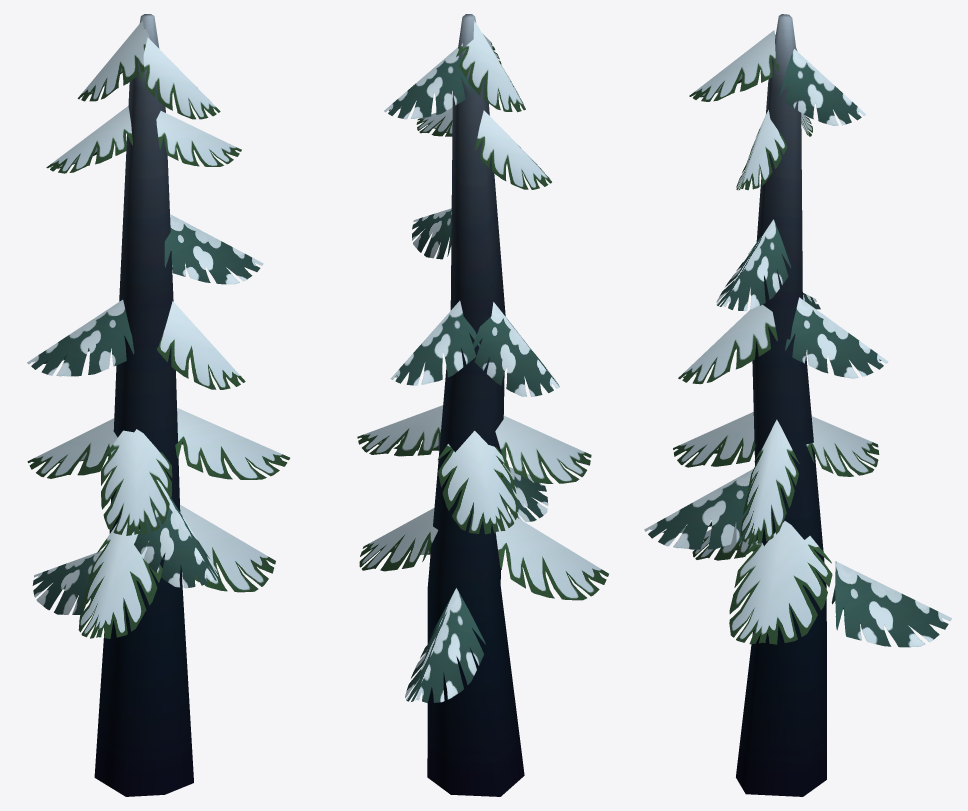
Rendered from tree-02b.glb.
3 renders of one model, left to right at view 1: azimuth 30°, elevation 25°; view 2: azimuth 150°, elevation 25°; view 3: azimuth 270°, elevation 25°, orthographic.
Parts seen in each view (by area): view 1: Tree 02B, Leaf 01 (15), Leaf 01 (8), Leaf 01 (1), Leaf 03 (2), Leaf 03, Leaf 03 (3), Leaf 01 (7), Leaf 01 (9), Leaf 01 (5), Leaf 01 (16), Leaf 01 (12) (+3 smaller); view 2: Tree 02B, Leaf 01 (16), Leaf 01 (8), Leaf 03 (4), Leaf 03 (2), Leaf 01 (15), Leaf 03 (1), Leaf 03 (5), Leaf 01 (13), Leaf 01 (7), Leaf 01 (17), Leaf 01 (1) (+3 smaller); view 3: Tree 02B, Leaf 01 (7), Leaf 03 (4), Leaf 03, Leaf 01 (1), Leaf 03 (1), Leaf 01 (9), Leaf 03 (3), Leaf 03 (5), Leaf 01 (15), Leaf 01 (16), Leaf 01 (5) (+2 smaller).
Boxes of the visible parts, x1,y1,x2,y2 form: Tree 02B: (94,14,193,796); Leaf 01 (15): (101,429,172,535); Leaf 01 (8): (78,522,163,638); Leaf 01 (1): (175,408,289,479); Leaf 03 (2): (27,299,134,376); Leaf 03: (132,479,218,588); Leaf 03 (3): (164,214,263,284); Leaf 01 (7): (180,504,275,592); Leaf 01 (9): (157,301,245,389); Leaf 01 (5): (139,37,220,119); Leaf 01 (16): (27,418,117,478); Leaf 01 (12): (156,111,241,166); Tree 02B: (427,14,524,796); Leaf 01 (16): (438,430,517,534); Leaf 01 (8): (495,513,608,600); Leaf 03 (4): (405,587,485,702); Leaf 03 (2): (473,302,559,396); Leaf 01 (15): (495,415,591,483); Leaf 03 (1): (390,300,479,385); Leaf 03 (5): (384,47,470,119); Leaf 01 (13): (475,110,551,189); Leaf 01 (7): (359,508,438,571); Leaf 01 (17): (456,20,525,112); Leaf 01 (1): (357,405,442,456); Tree 02B: (736,14,826,796); Leaf 01 (7): (729,521,832,644); Leaf 03 (4): (831,561,951,647); Leaf 03: (644,469,754,549); Leaf 01 (1): (741,419,799,544); Leaf 03 (1): (785,297,888,378); Leaf 01 (9): (678,305,777,384); Leaf 03 (3): (716,219,791,310); Leaf 03 (5): (780,48,865,125); Leaf 01 (15): (673,412,755,467); Leaf 01 (16): (806,416,879,476); Leaf 01 (5): (689,30,779,101).
Size of the model in its own units: 2.37 by 6.84 by 2.53.
1 material, 1 textured.
